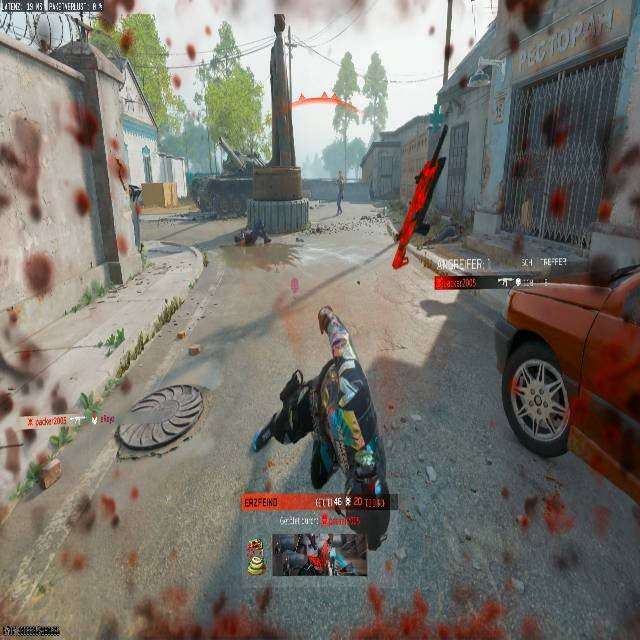head: (337, 169, 342, 177)
player: (251, 305, 393, 575), (334, 170, 345, 215)
